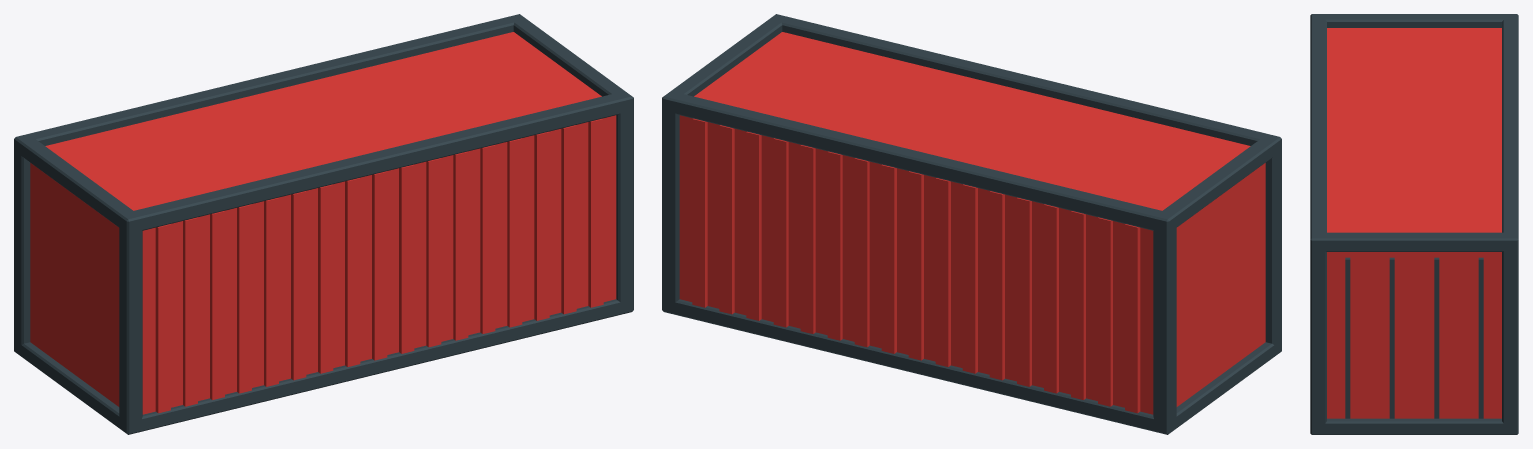
File: cont20.glb
The picture shows the model from 3 angles, left to right: view 1: azimuth 30°, elevation 25°; view 2: azimuth 150°, elevation 25°; view 3: azimuth 270°, elevation 25°; orthographic projection. The views are drawn at different scales.
Parts seen in each view (by area): view 1: cont20; view 2: cont20; view 3: cont20.
Boxes of the visible parts, bbox=[...] form: cont20: bbox=[14, 14, 633, 434]; cont20: bbox=[662, 14, 1281, 434]; cont20: bbox=[1310, 14, 1518, 434].
Bounding box in the file's own units: 6.45 × 2.6 × 2.5.
